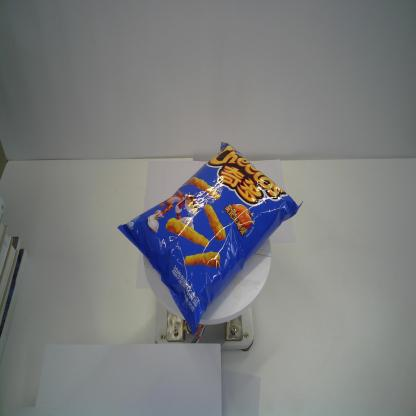Puffed Food: (116, 140, 305, 337)
